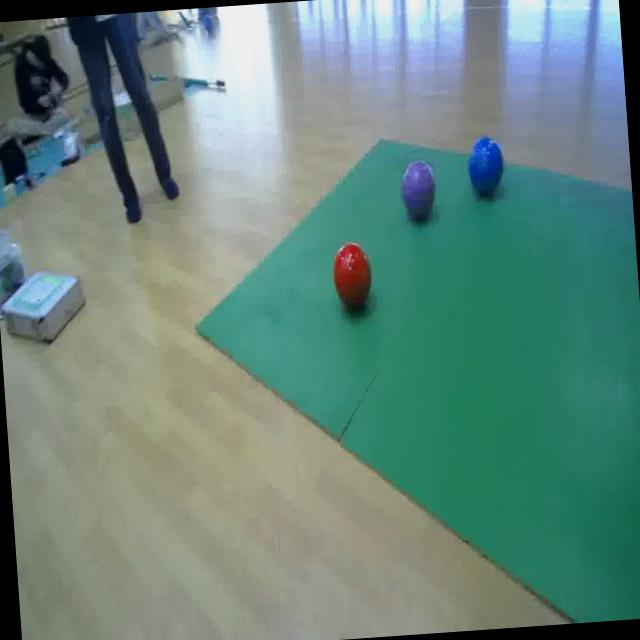blue_ball: (466, 134, 505, 196)
purple_ball: (401, 158, 438, 218)
red_ball: (331, 242, 374, 308)
